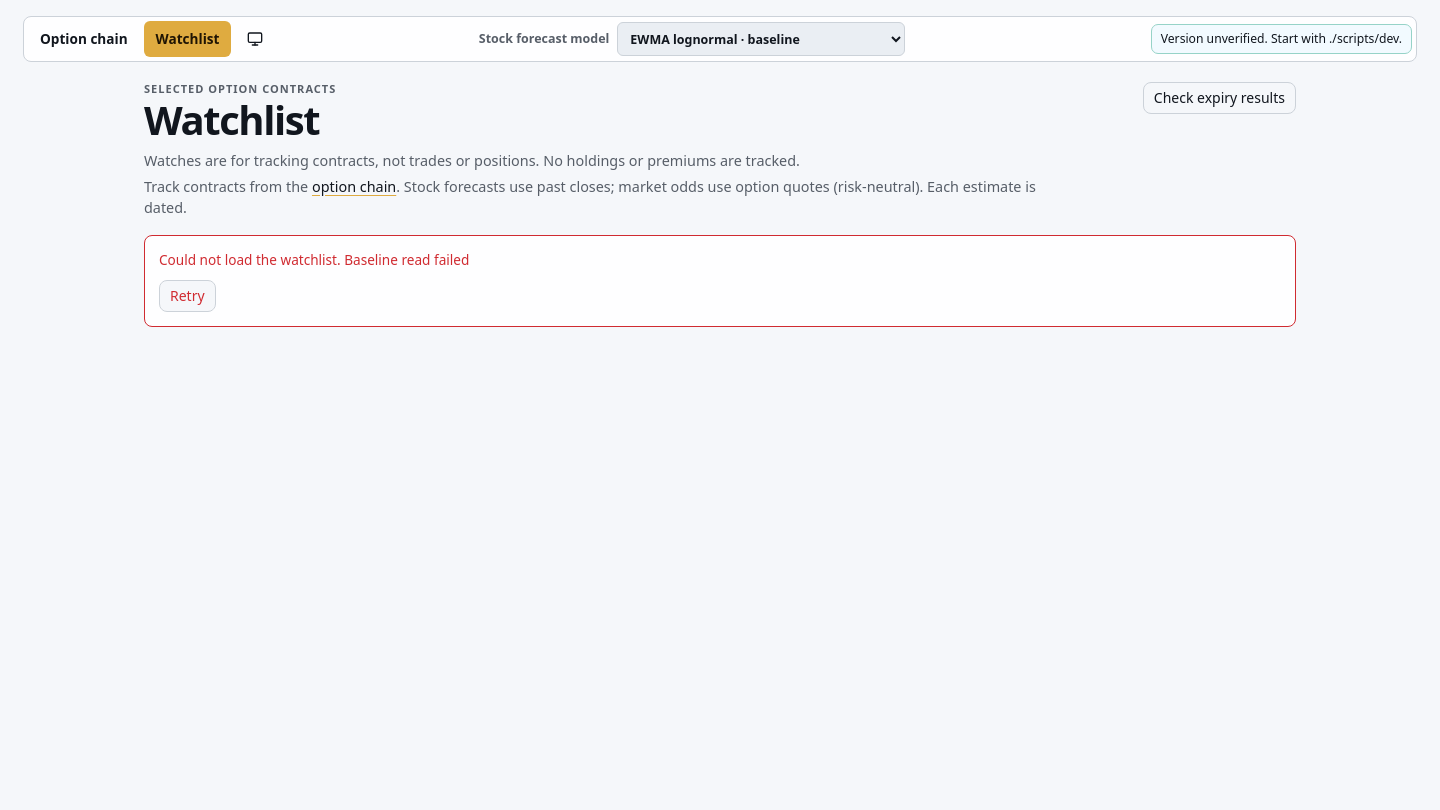
Test case: ignores an obsolete initial retry failure after a new model loads
The width and height of the screenshot is (1440, 810).
Check: the message "Could not load the watchlist. Baseline read failed Retry" is shown, box [144,235,1296,328]
Click the button "Retry": coordinates (187, 296) [159,280,216,312]
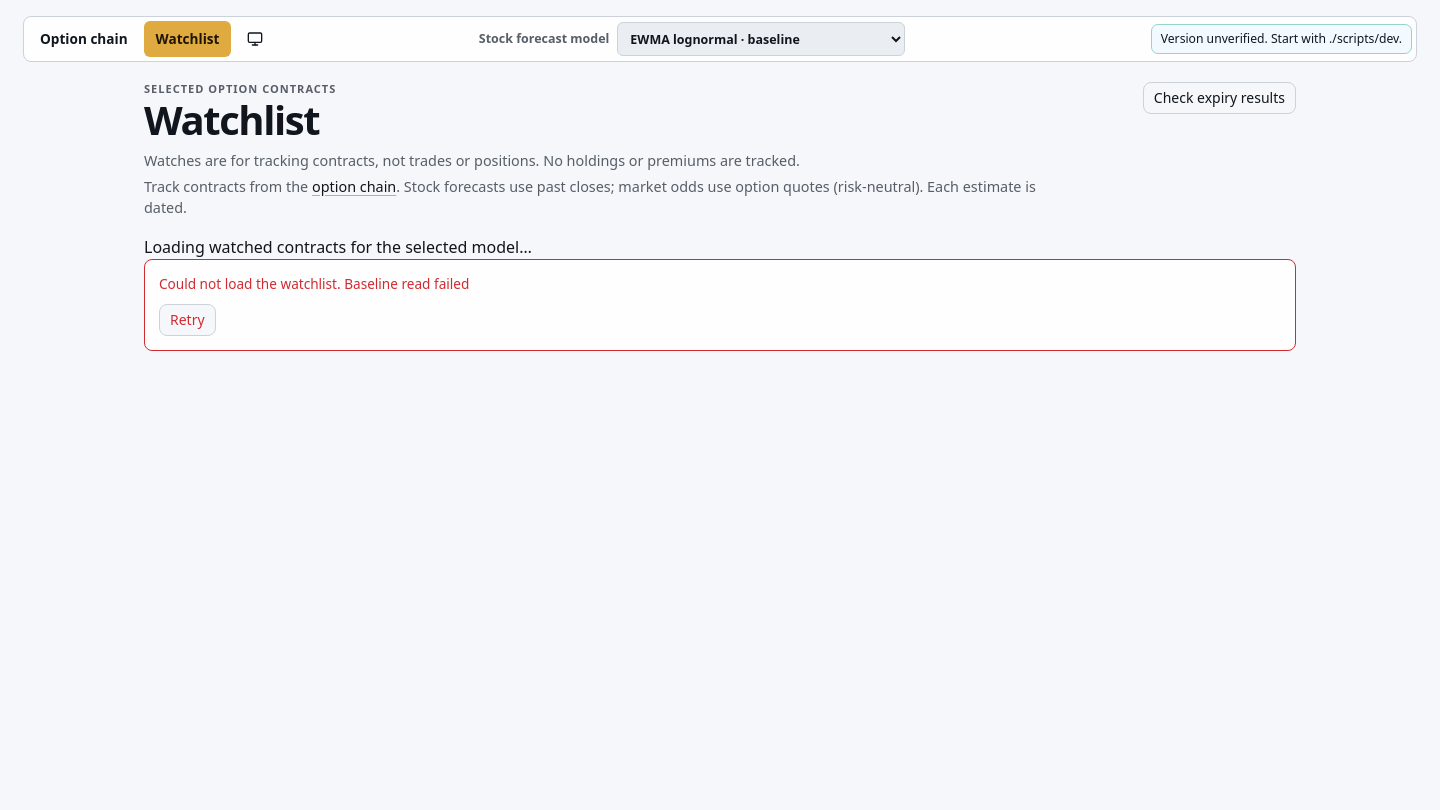
Select "Student-t EWMA · experimental" in the dropdown labelled "Stock forecast model": coordinates (761, 39) [617,22,905,56]
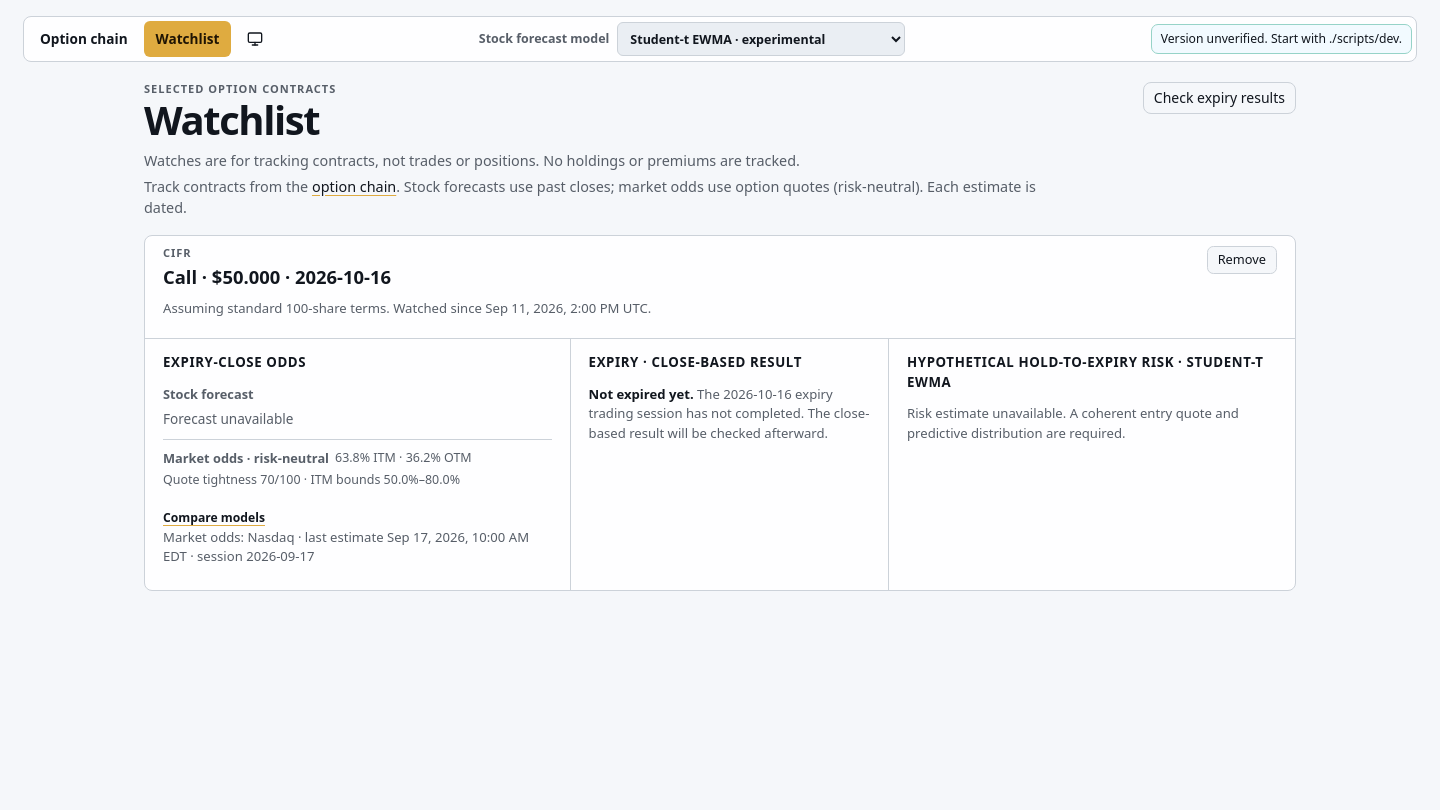
Check: the message "Loading watched contracts for the selected model…" is gone
Check: the button with aria-label "Remove CIFR" is shown, box [1207,246,1277,274]
